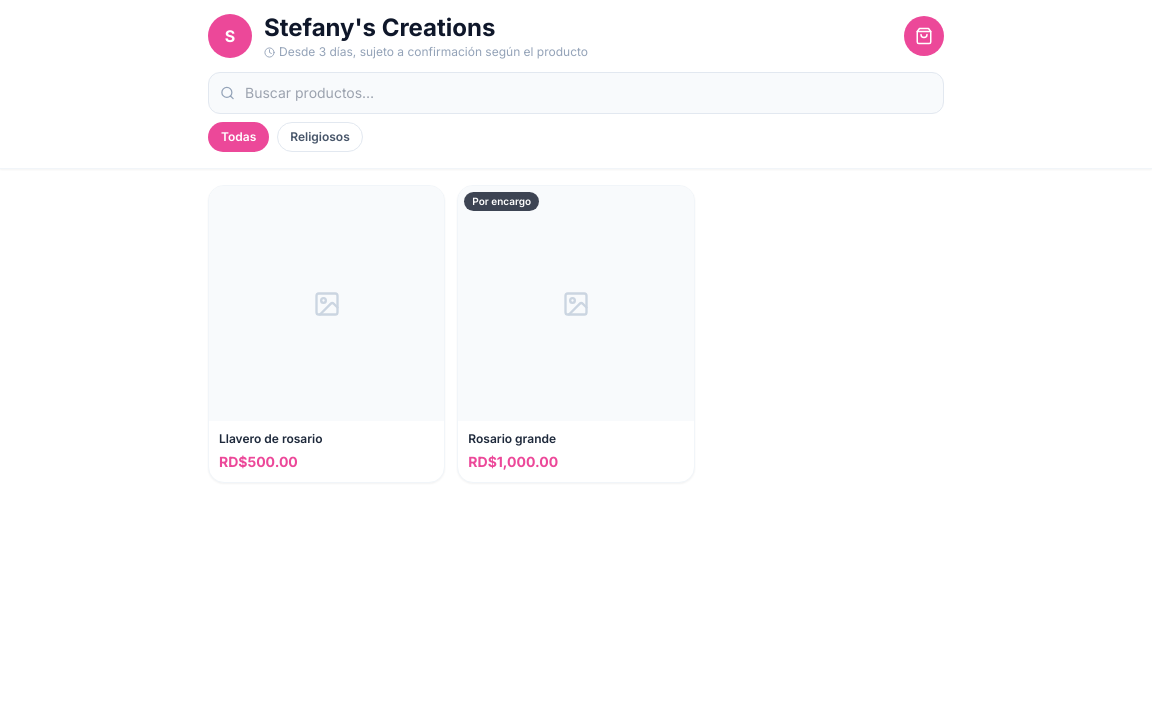
it: CatalogView — carrito público › agrega una variante con precio distinto y lo refleja en el carrito
Click the text "Llavero de rosario": (271, 439) [219,431,323,446]
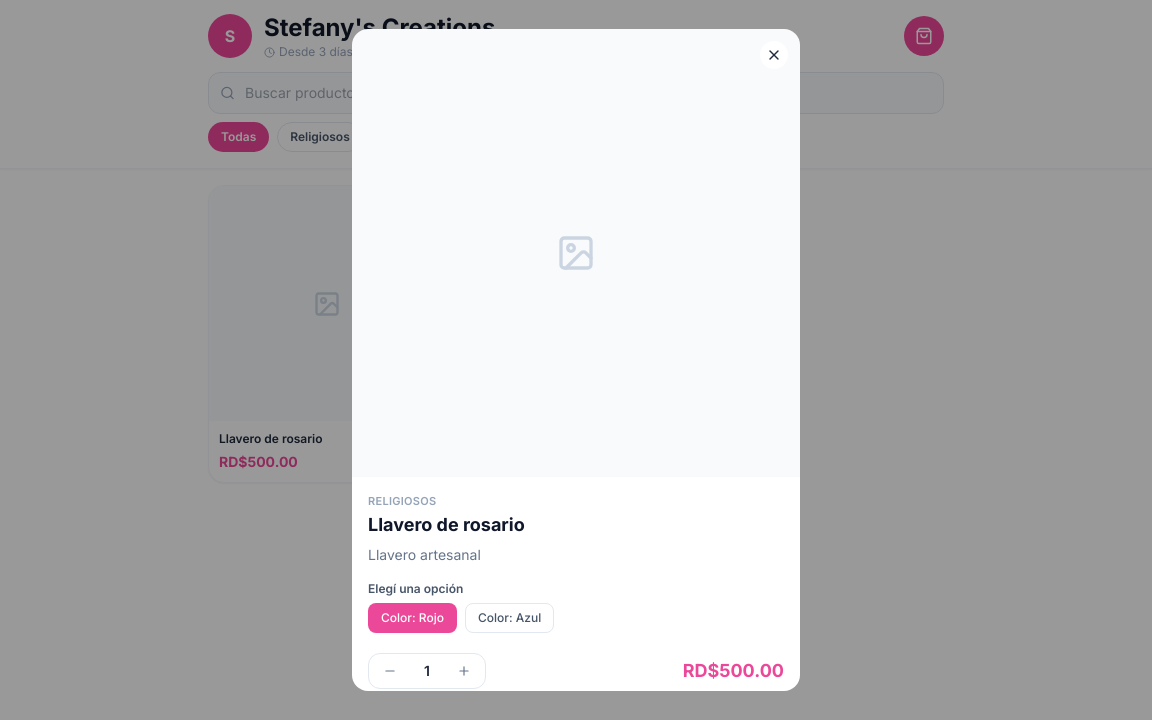
Click the button "Color: Azul": (510, 618) [465,603,554,633]
(page scrolled)
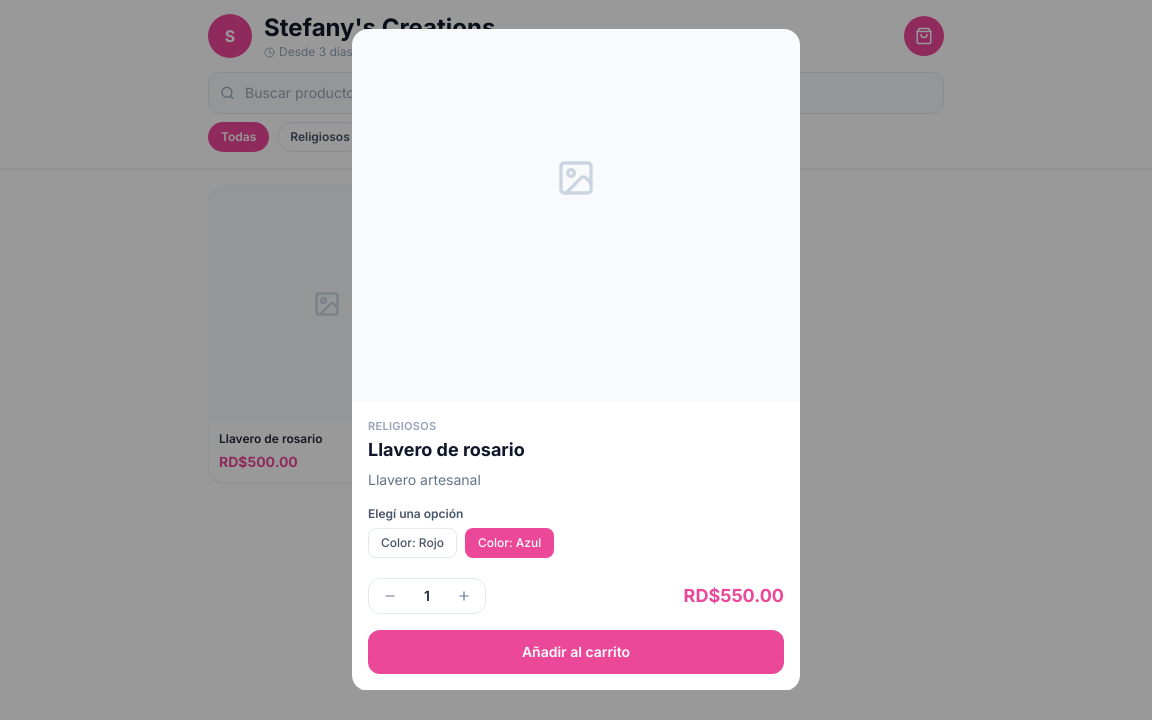
Click the button "Añadir al carrito": (576, 652) [368,630,784,674]
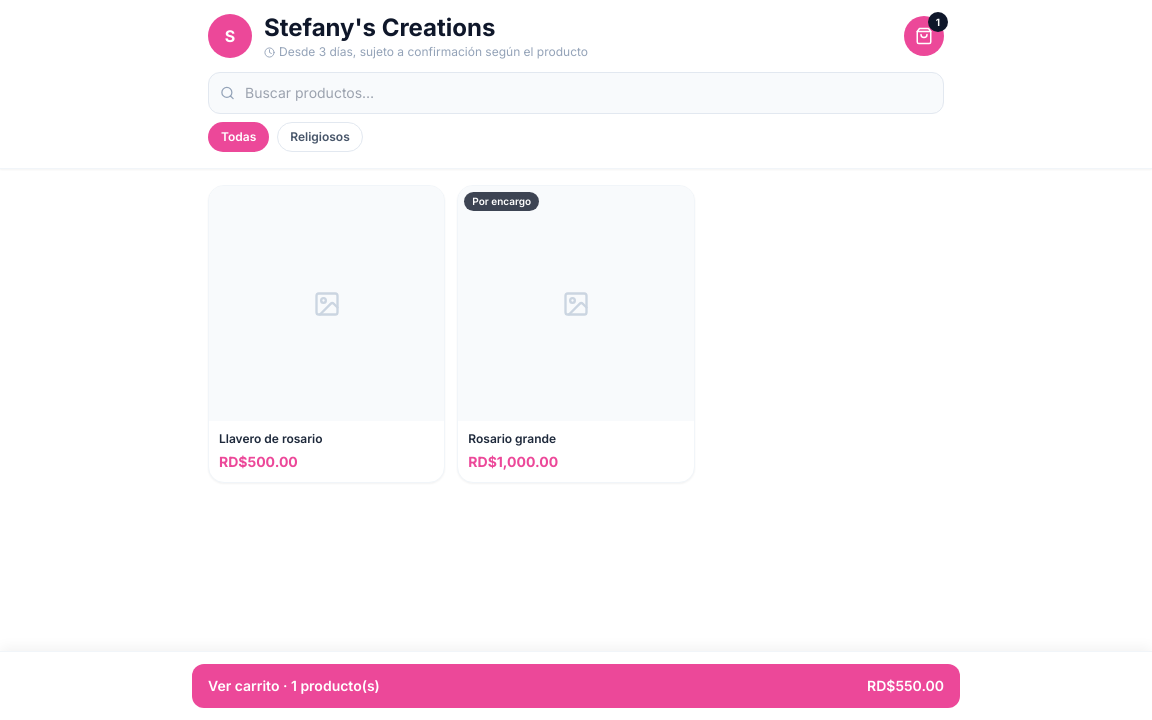
Click the button "Ver carrito · 1 producto(s) RD$550.00": (249, 686) [192,664,960,708]
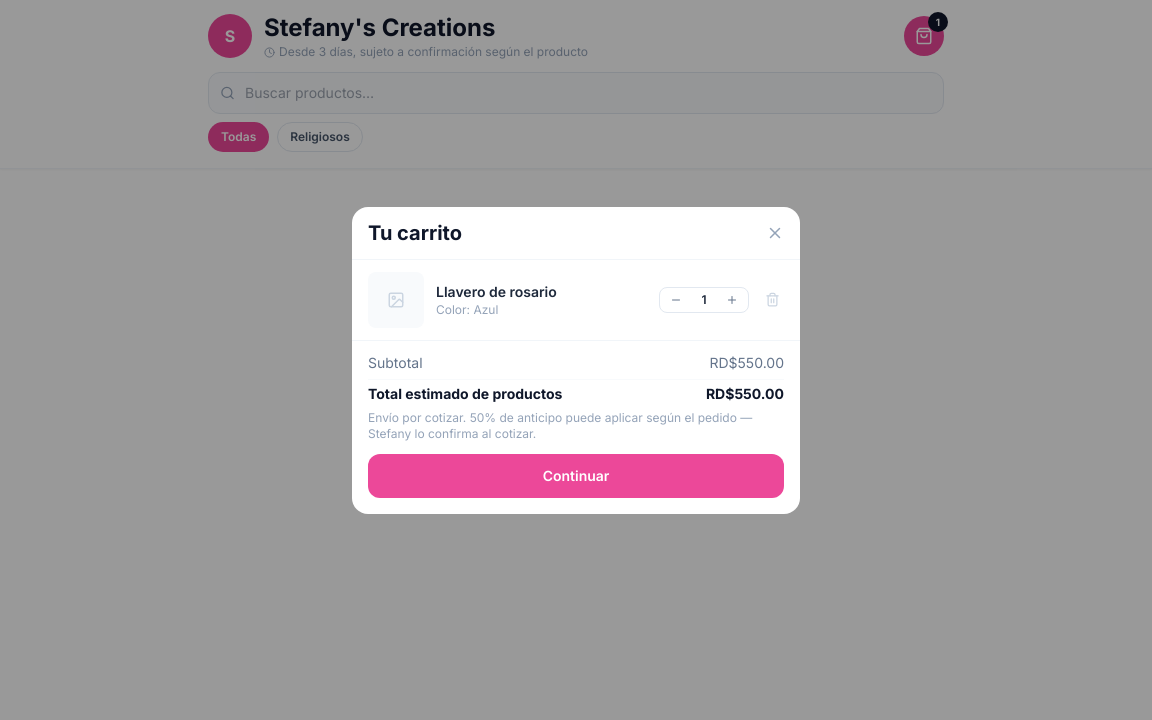
Result: the text "RD$550.00" in the row of "Subtotal" is shown at [710,354,784,370]
Result: the text "Color: Azul" is shown at [436,302,498,316]
